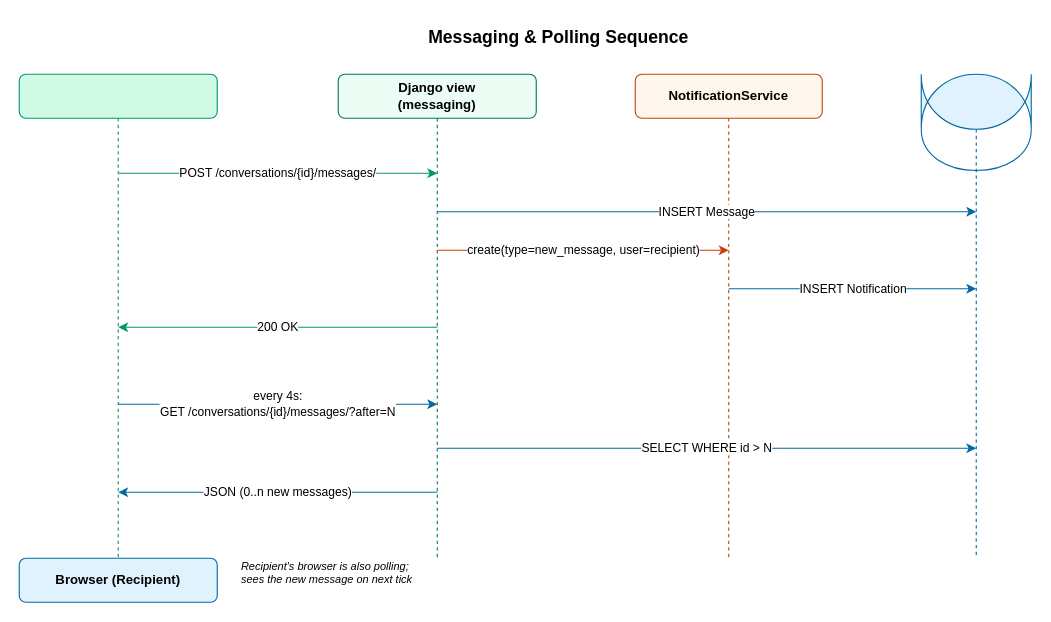
This 1051x622 diagram has some shape labels left out. The centre of each missing label's shape, as x and y in pixels:
"Browser (Sender)" belongs at point (117, 95).
"MySQL" belongs at point (975, 101).
